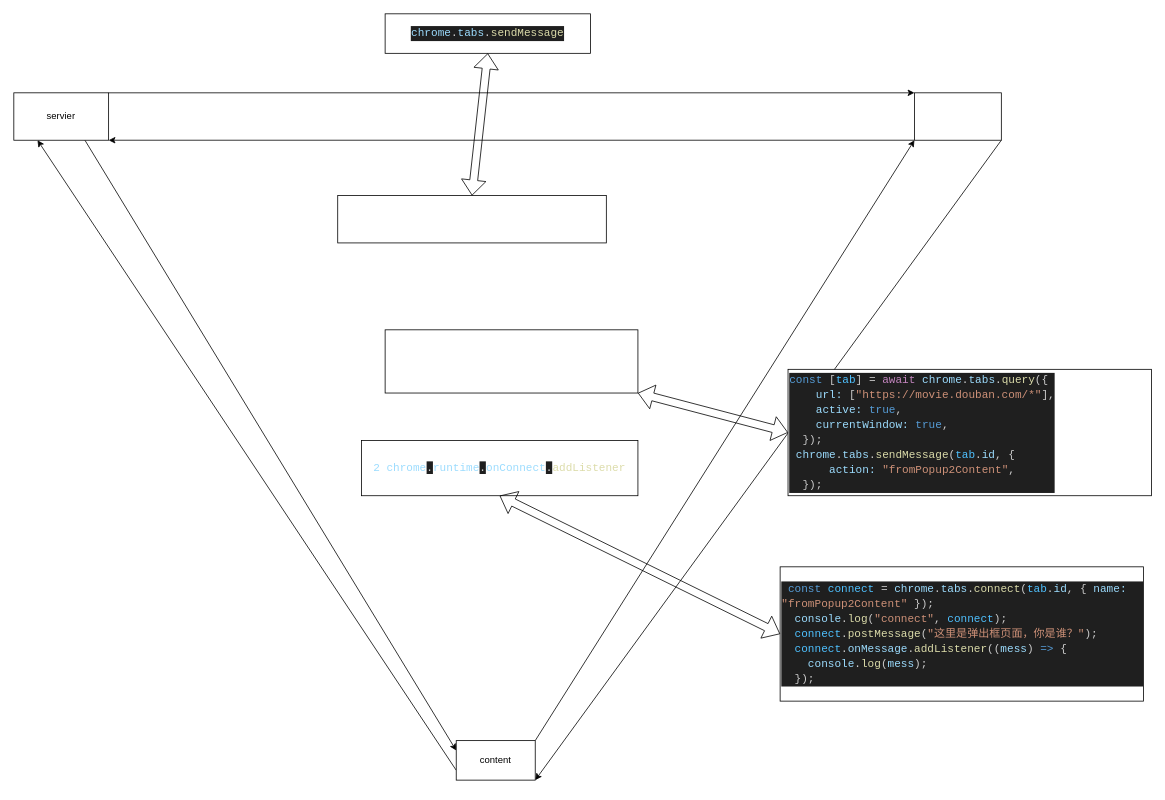
Some shapes in this 1165 by 800 pixel diagram are drawn without their labels. The centre of each missing label's shape, as x and y in pixels:
"1 chrome . runtime . onMessage . addListener" goes at [511,361].
"chrome . runtime . onMessage . addListener" goes at [471,219].
"popup" goes at [957,116].
